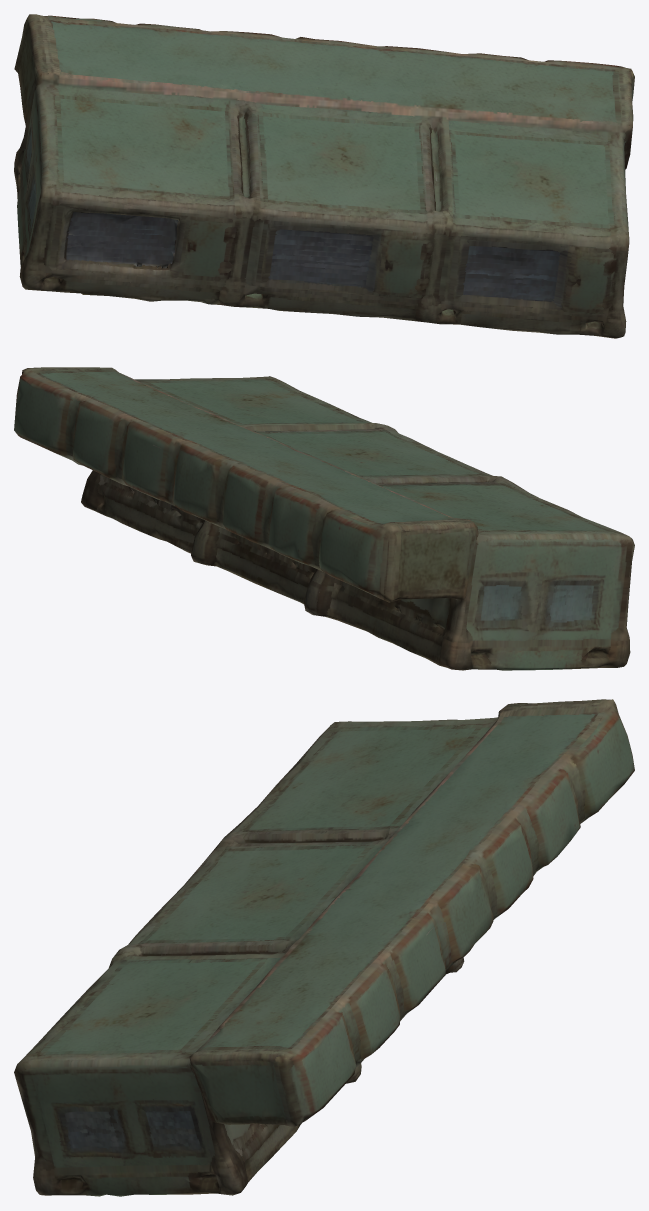
The model's file is shelter_roof_filter_bank_raw.glb.
3 views of the same model, one above another, from view 1: azimuth 30°, elevation 25°; view 2: azimuth 150°, elevation 25°; view 3: azimuth 270°, elevation 25° (orthographic). The views are drawn at different scales.
Size of the model in its own units: 0.8967 by 0.3533 by 0.6896.
1 material, 1 textured.
